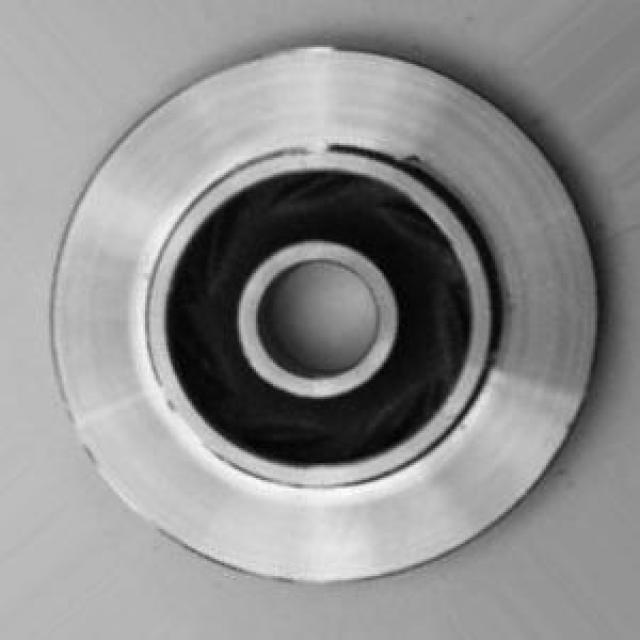Defect: (390, 140, 433, 174)
